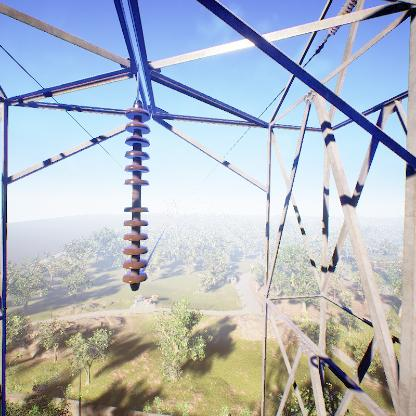insulator: (121, 106, 154, 294)
